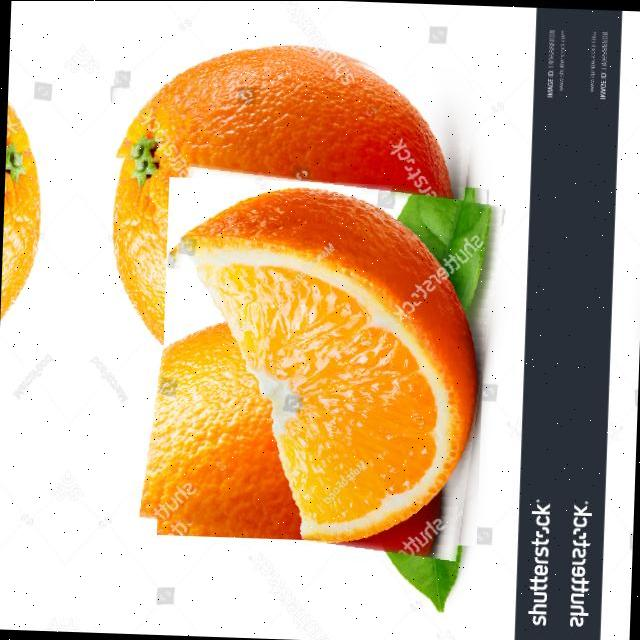Orange: (173, 186, 478, 544), (110, 44, 453, 345), (138, 321, 443, 556), (0, 101, 41, 350)
